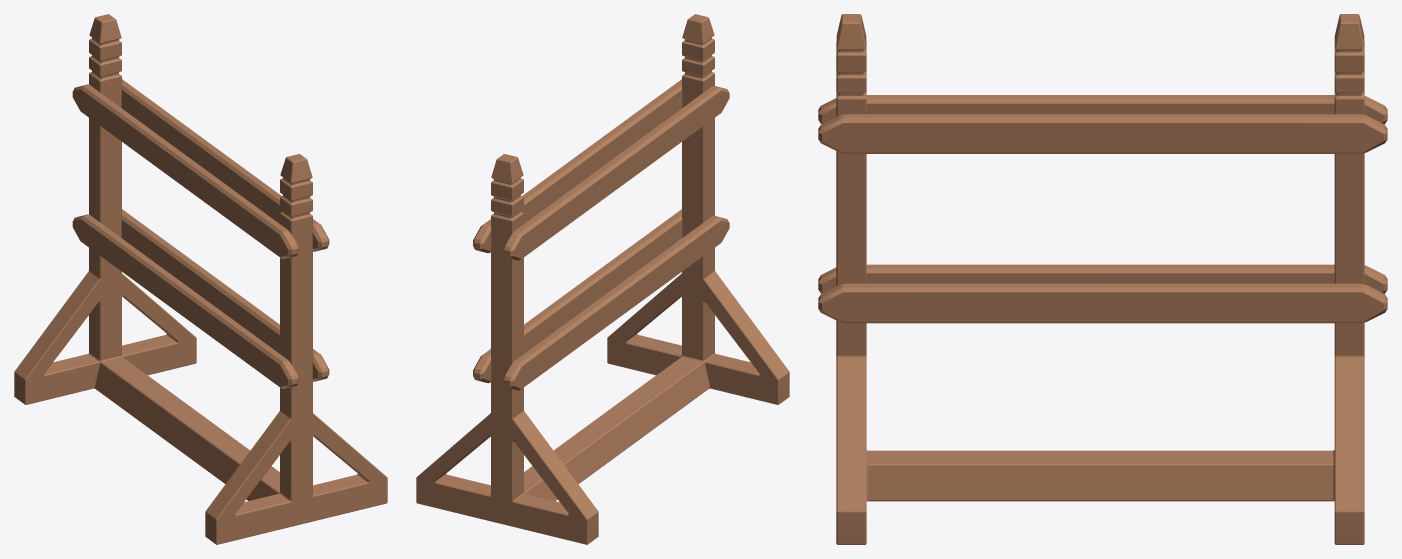
File: Stand.fbx
3 renders of one model, left to right at view 1: azimuth 30°, elevation 25°; view 2: azimuth 150°, elevation 25°; view 3: azimuth 270°, elevation 25°, orthographic. The views are drawn at different scales.
Visible parts, largest first — view 1: Stand; view 2: Stand; view 3: Stand.
Boxes of the visible parts, box(x1,y1,x2,y2) form: Stand: box(14, 14, 387, 544); Stand: box(416, 14, 789, 544); Stand: box(818, 14, 1387, 544).
Size of the model in its own units: 190 by 382 by 417.
